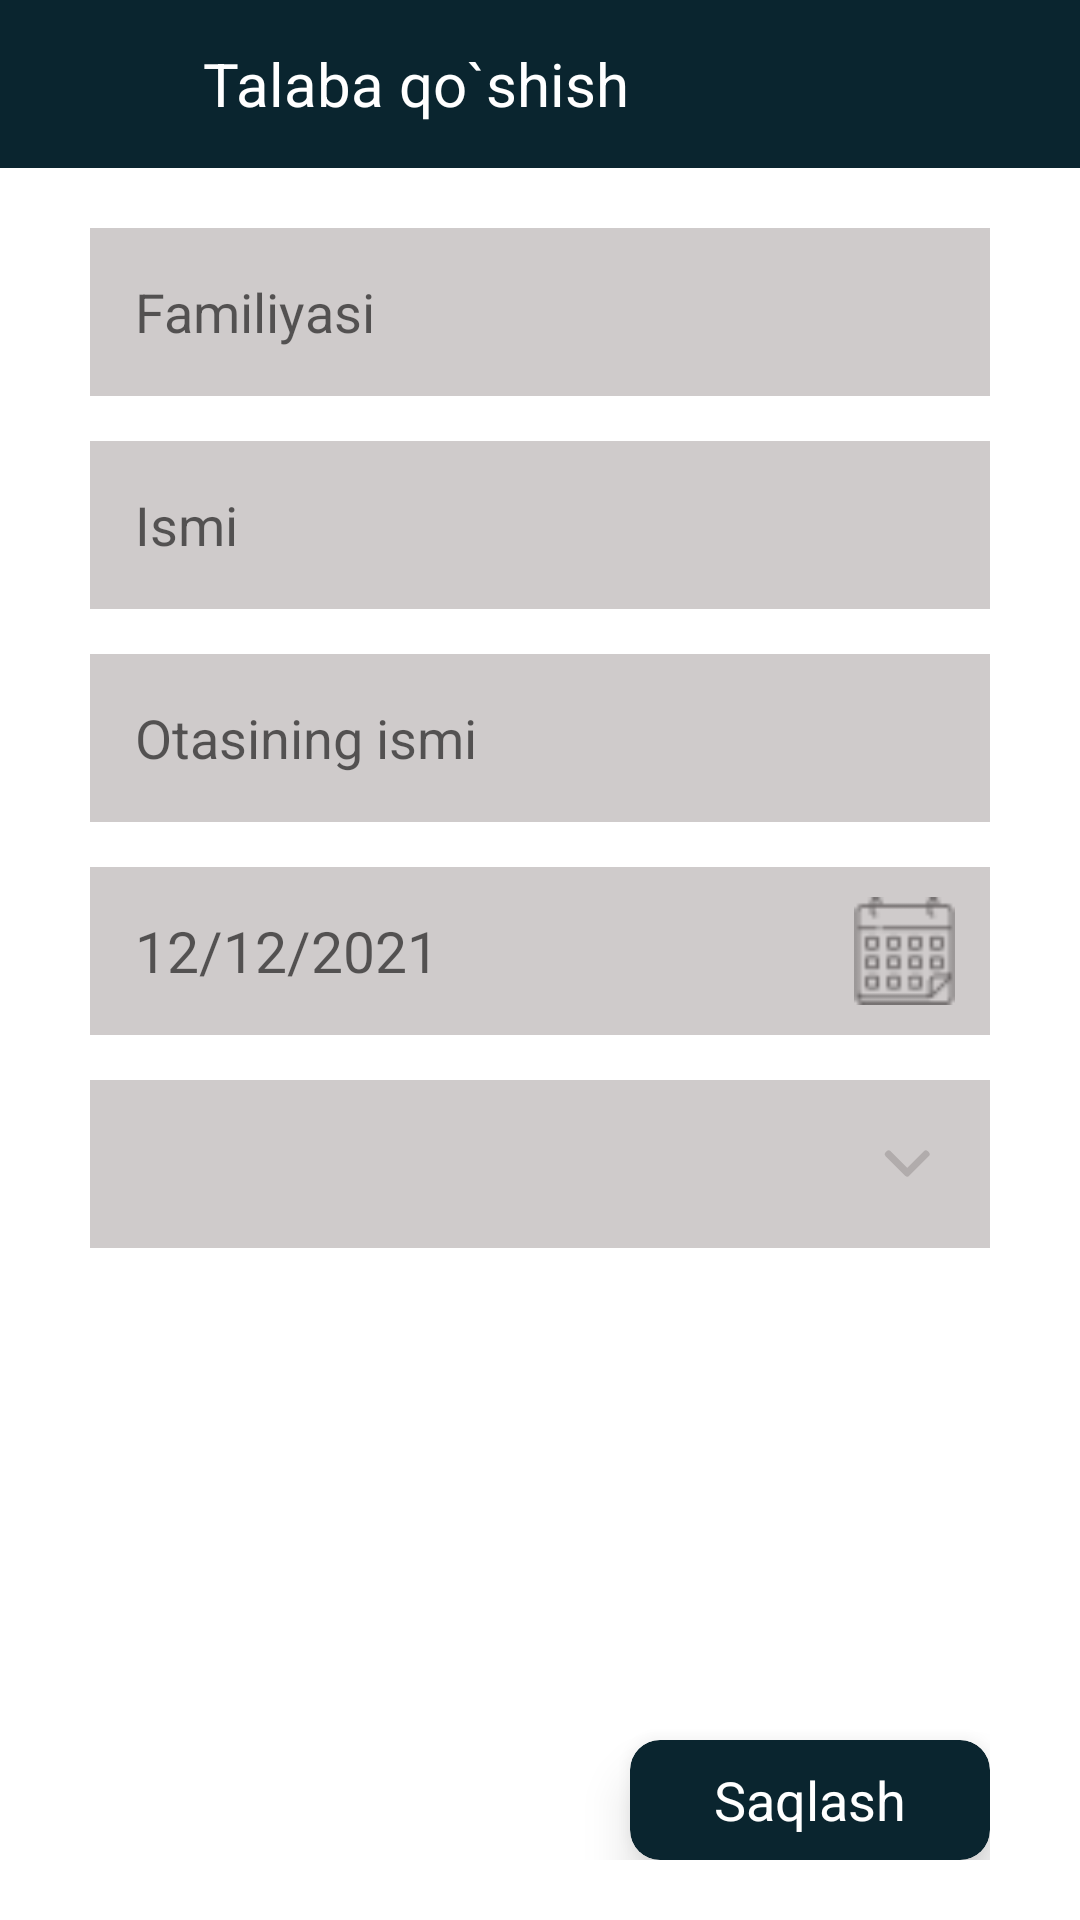

Where icons sit on this 1080 × 1920 app screen, as (x1, y1, x2, y2):
kalendar: (819, 867, 990, 1035)
